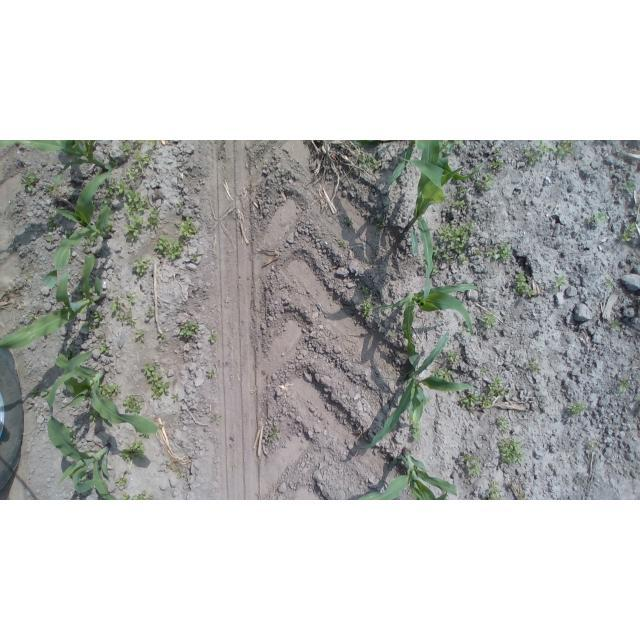Maize: (363, 332, 480, 449), (396, 141, 466, 310), (374, 283, 478, 381), (0, 253, 104, 349), (47, 372, 120, 500), (40, 166, 115, 290), (56, 350, 160, 434), (355, 141, 493, 186), (356, 448, 458, 501), (0, 140, 116, 186)
Weeds: (100, 179, 148, 213), (437, 221, 475, 255), (141, 364, 171, 401), (497, 436, 528, 464), (125, 149, 152, 179), (111, 296, 136, 328), (153, 236, 184, 261), (460, 391, 493, 410), (122, 213, 144, 241), (514, 271, 536, 297), (120, 439, 145, 461), (81, 310, 104, 333), (488, 376, 513, 397), (461, 454, 481, 476), (178, 217, 197, 240), (122, 395, 142, 415), (179, 319, 199, 339), (22, 172, 41, 193), (475, 172, 497, 190), (98, 382, 120, 400), (439, 141, 464, 156), (146, 204, 161, 228), (358, 153, 380, 169), (431, 367, 453, 383), (621, 222, 638, 242), (488, 481, 505, 500), (525, 148, 544, 165), (481, 308, 497, 328), (134, 257, 151, 275), (431, 244, 450, 260), (121, 492, 153, 501), (568, 402, 587, 417), (409, 421, 424, 440), (587, 212, 606, 227), (556, 141, 574, 156), (498, 243, 512, 261), (536, 140, 554, 153), (525, 357, 540, 372), (497, 416, 510, 433), (361, 298, 373, 316), (119, 141, 134, 155), (446, 349, 460, 364), (83, 236, 98, 249), (608, 320, 622, 333), (30, 388, 49, 397), (46, 214, 56, 231), (624, 180, 638, 192), (451, 198, 465, 209), (67, 428, 76, 445), (155, 332, 167, 344), (554, 276, 567, 287), (115, 477, 128, 488), (487, 250, 501, 260), (489, 160, 504, 169), (457, 253, 469, 264), (127, 291, 138, 303), (268, 427, 277, 441), (619, 378, 629, 390), (104, 220, 114, 232), (207, 332, 217, 344), (458, 185, 467, 198), (432, 260, 439, 276), (89, 410, 100, 420), (99, 343, 109, 354), (136, 328, 145, 340), (479, 364, 488, 376), (208, 369, 217, 380), (492, 147, 502, 156), (375, 219, 385, 228), (45, 236, 56, 244), (27, 314, 39, 321), (79, 474, 88, 483), (361, 286, 370, 295), (80, 284, 86, 297), (192, 252, 201, 260), (171, 394, 179, 403), (472, 248, 482, 255), (45, 186, 55, 193), (146, 141, 156, 148), (458, 326, 466, 334), (24, 273, 33, 280), (605, 280, 612, 289), (145, 308, 152, 317), (518, 493, 526, 500), (421, 260, 428, 268), (65, 229, 72, 237), (216, 417, 221, 428), (344, 219, 353, 225), (139, 434, 149, 439), (177, 199, 184, 206), (587, 442, 595, 448), (388, 331, 396, 337), (90, 284, 95, 293), (176, 472, 182, 479), (338, 239, 345, 245), (133, 140, 143, 144), (361, 260, 367, 266), (158, 425, 163, 432), (172, 468, 177, 472)
